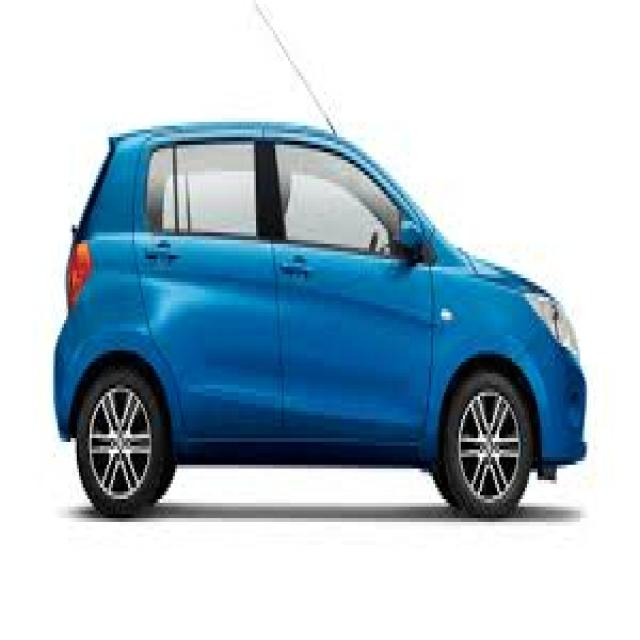Car: (50, 109, 588, 528)
